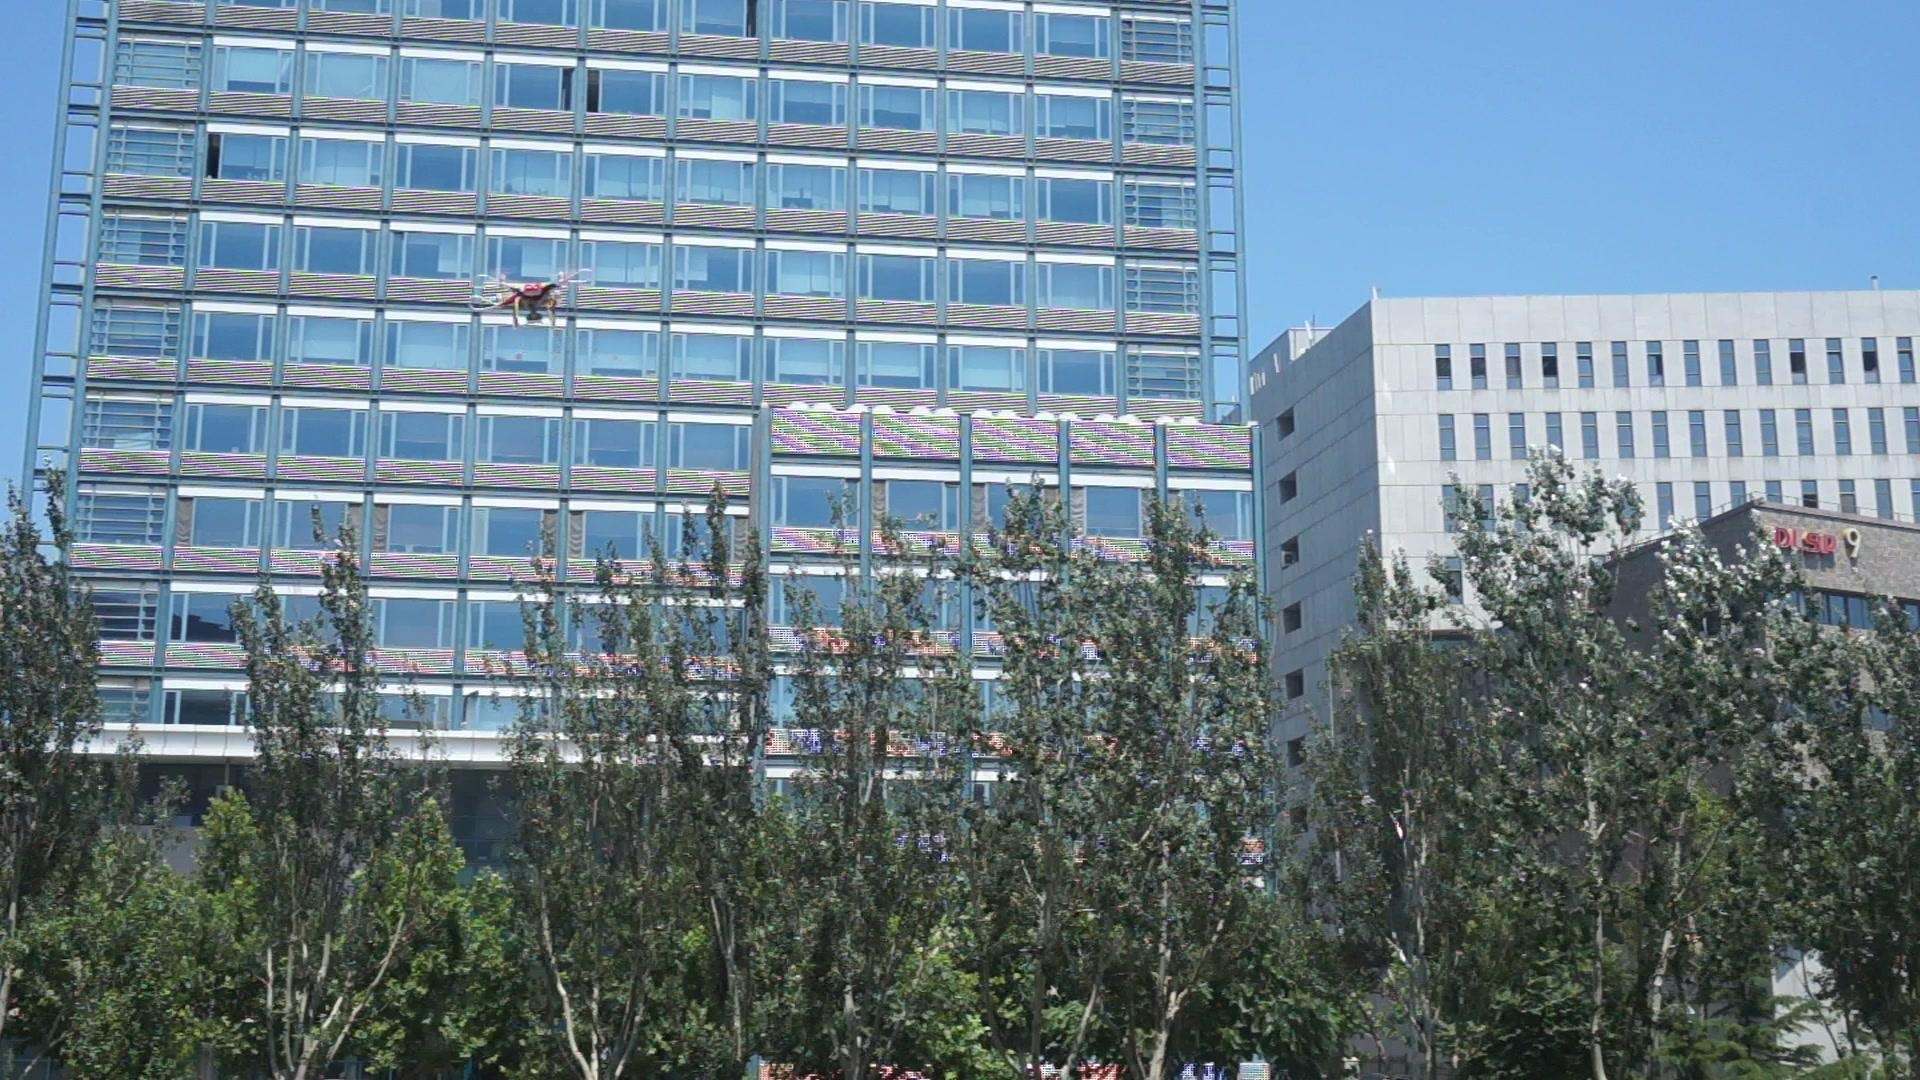UAV: (469, 268, 597, 328)
